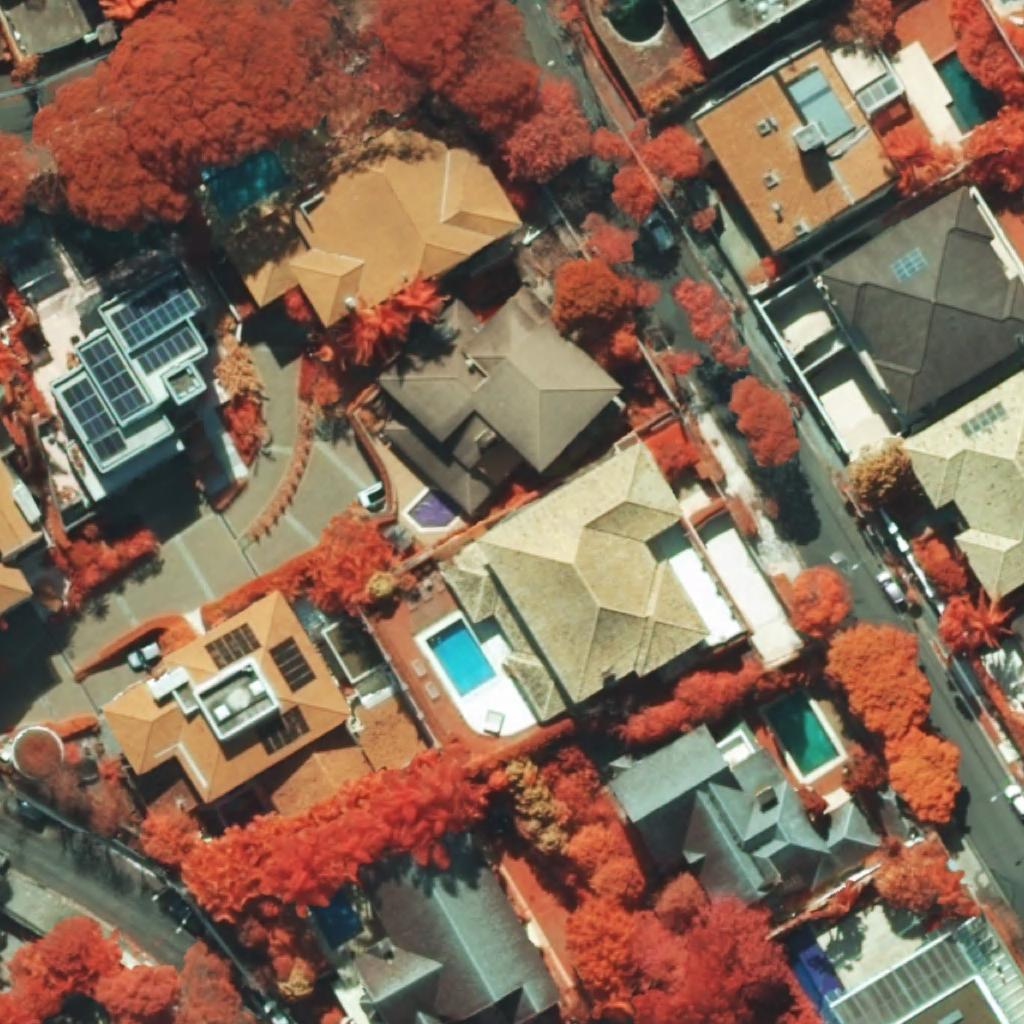pool: (764, 690, 840, 777), (201, 148, 291, 221), (933, 49, 1005, 136), (426, 618, 498, 698), (784, 925, 842, 1014), (310, 889, 364, 950), (607, 0, 664, 43), (407, 488, 461, 527)
